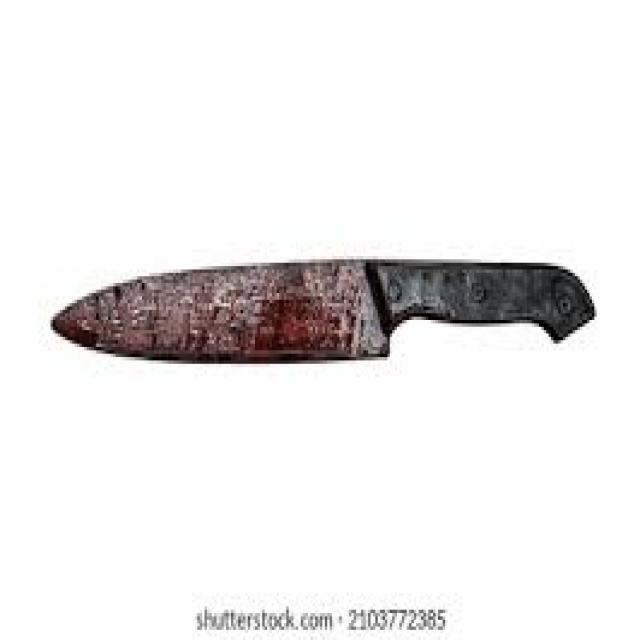Knife: (48, 256, 594, 364)
